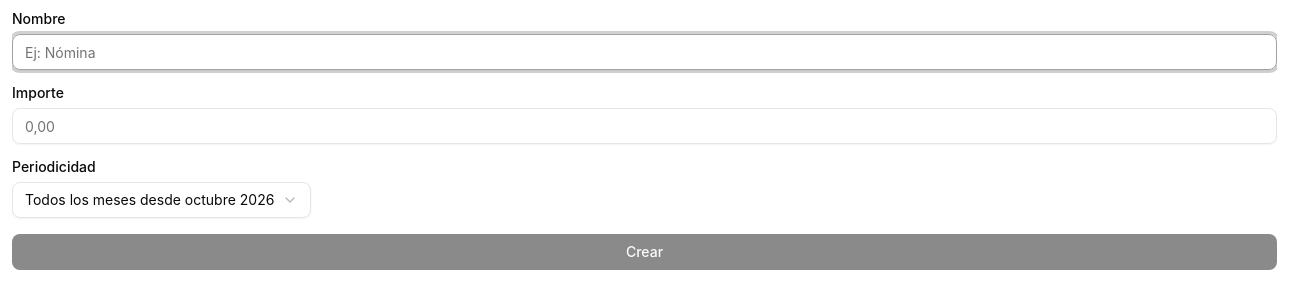
IncomeLineForm › names the month in both recurrence options so the choice is unambiguous
The image size is (1292, 287).
Step 1. Click the dropdown named "Periodicidad" → (162, 200), box [12,182,311,218]
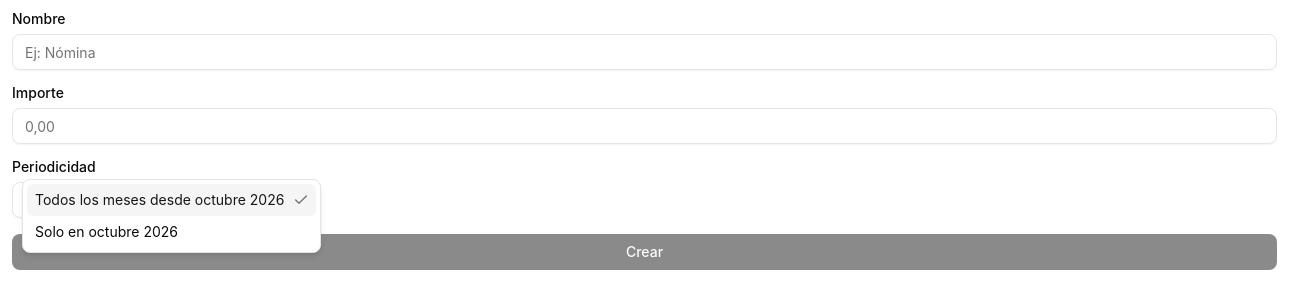
Expected: the option "Todos los meses desde octubre 2026" is shown, [27,184,316,216]
Expected: the option "Solo en octubre 2026" is shown, [35,223,178,240]
